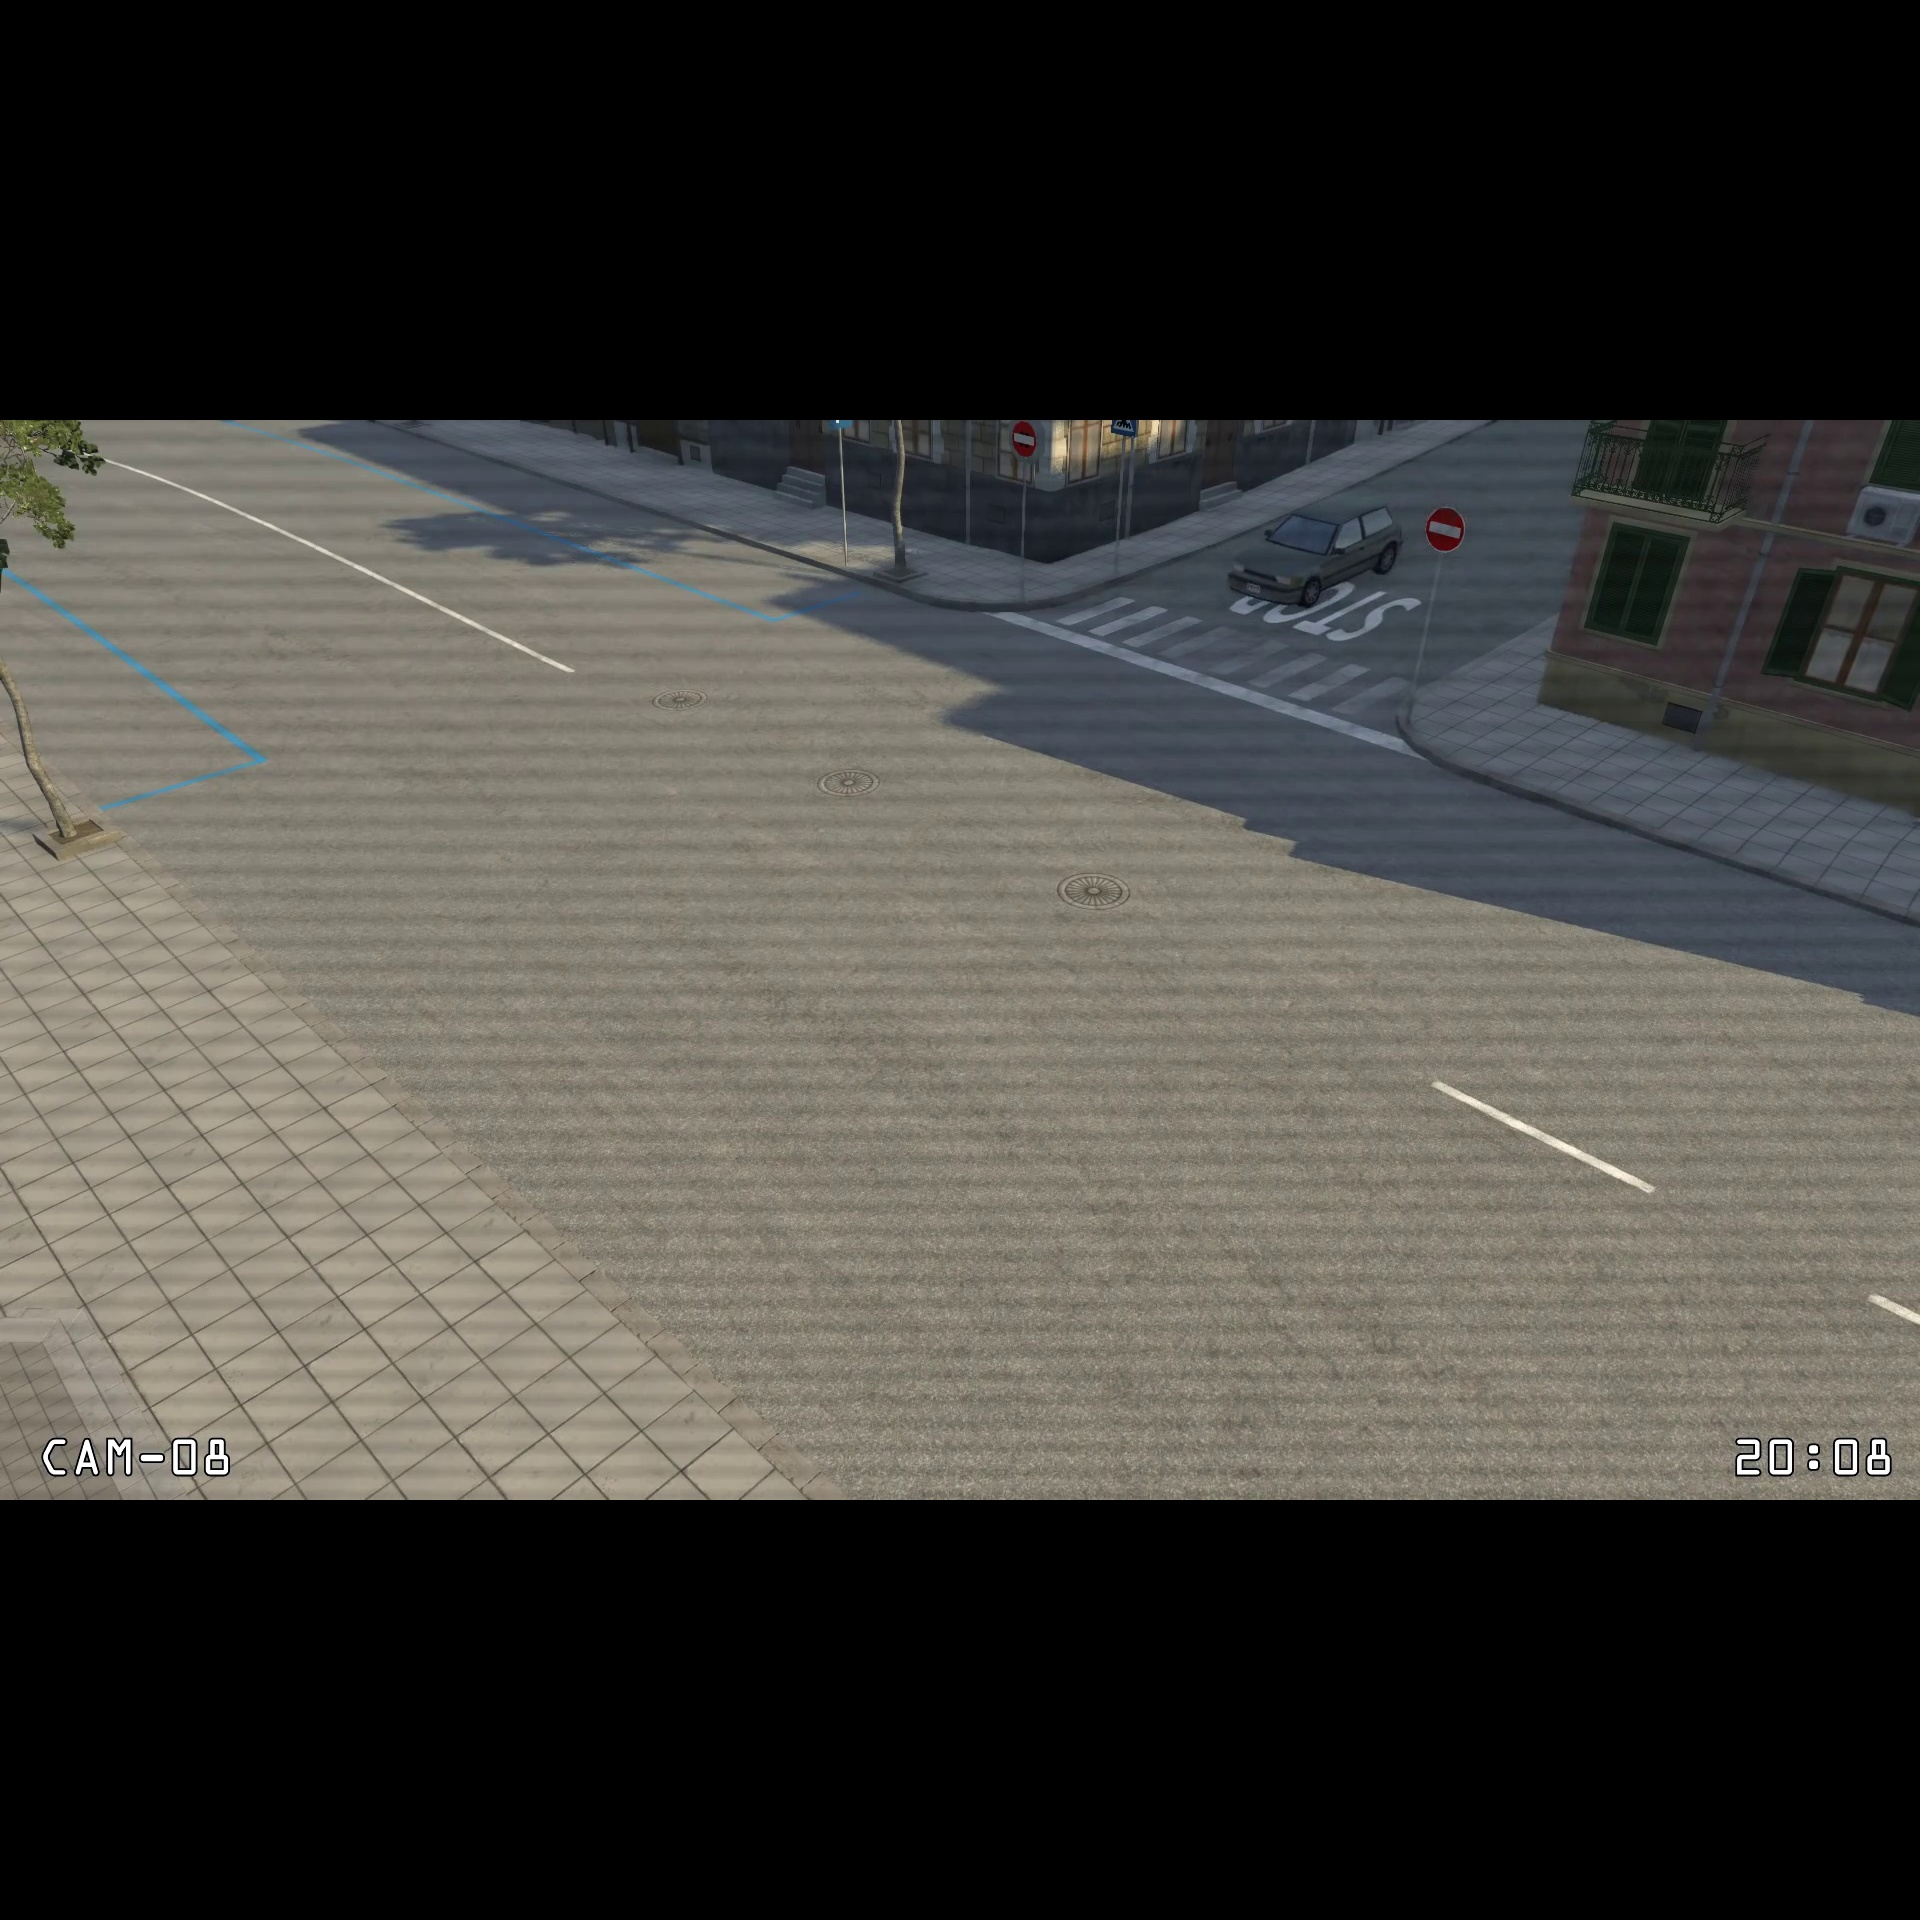vehicle: (1222, 491, 1408, 614)
